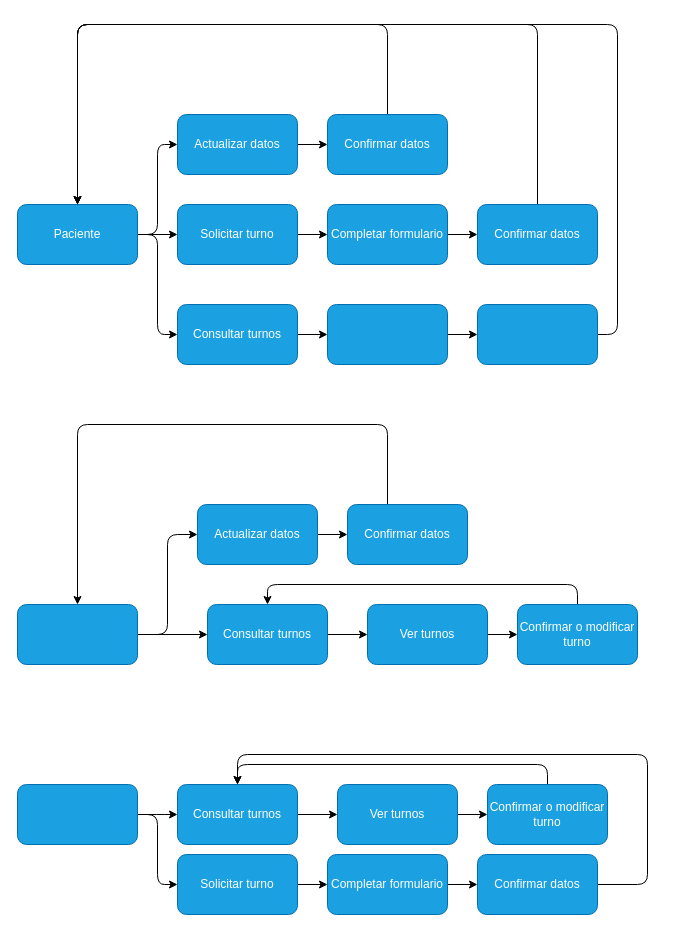
Some shapes in this 673 by 932 pixel diagram are drawn without their labels. The shapes that lost their labels are listed below. From the top down, each one's centre as x and y in pixels, then its label:
the point at 387,334: Eliminar turnos
the point at 537,334: Confirmar
the point at 77,634: Medico
the point at 77,814: SuperAdmin
